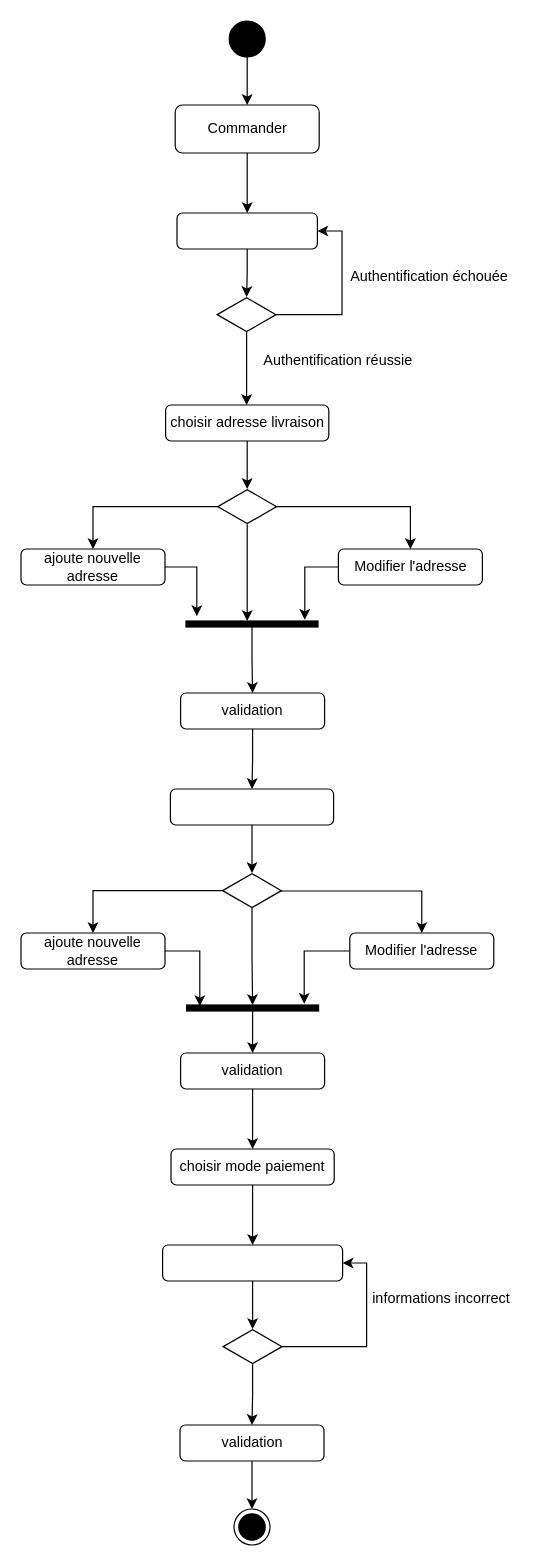
Some shapes in this 546 by 1566 pixel diagram are drawn without their labels. The centre of each missing label's shape, as x and y in pixels:
"choisir adresse facturation" goes at (x=251, y=806).
"S'authentifier" goes at (x=246, y=230).
"Saisir information paiement" goes at (x=252, y=1262).
